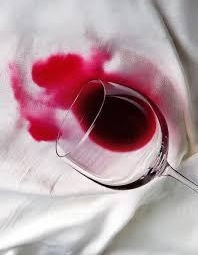wine: (31, 57, 159, 114), (14, 61, 65, 144)
